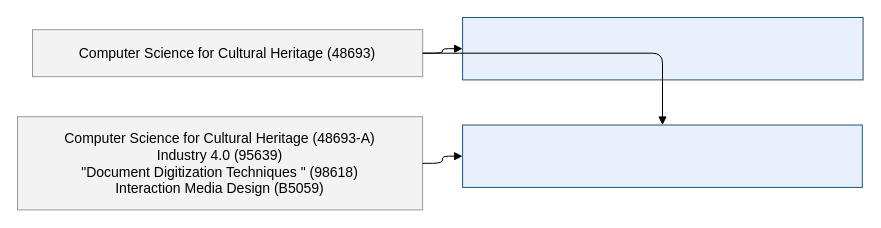
Image size: 881x228. Some labels were removed from this diagram. Here are the shapes that lost their labels. From the top down, the box of each, then its label:
(462, 16, 863, 80): Interactive Cultural Heritage Media Applications 3 ECTS
(462, 124, 862, 187): Visual Media Fundamentals for Cultural Heritage 6 ECTS
